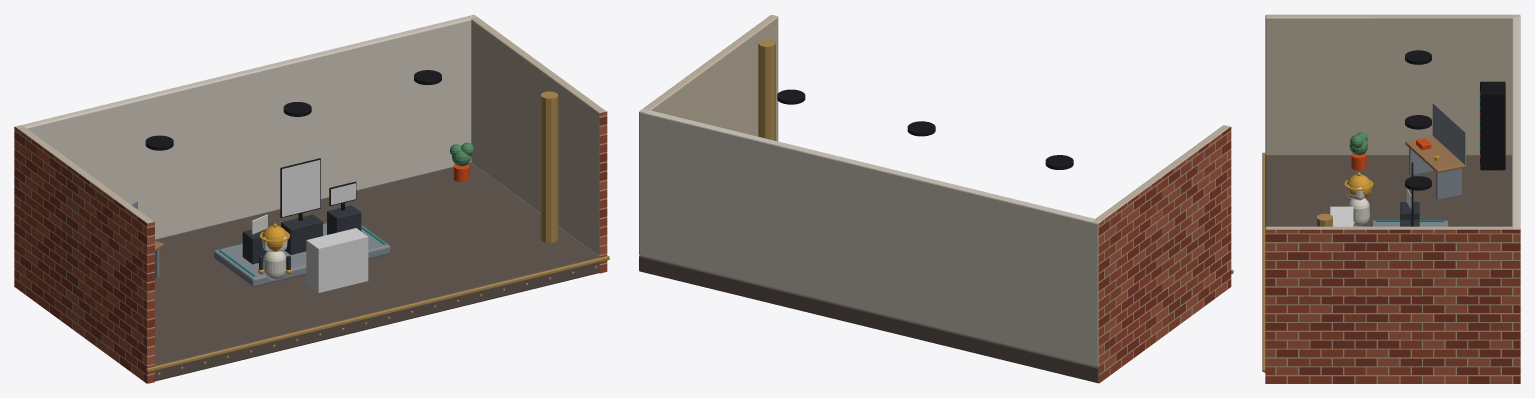
Rendered from workshop.glb.
The picture shows the model from 3 angles, left to right: view 1: azimuth 30°, elevation 25°; view 2: azimuth 150°, elevation 25°; view 3: azimuth 270°, elevation 25°; orthographic projection. The views are drawn at different scales.
Visible parts, largest first — view 1: static, hit__slider, screens, dyn__builder__head, dyn__builder__body; view 2: static; view 3: static, dyn__builder__head, hit__slider, dyn__builder__body, glow.
Part boxes in pixels (x1,y1,x2,y2): static: [14, 14, 609, 383]; hit__slider: [306, 228, 368, 292]; screens: [282, 160, 355, 216]; dyn__builder__head: [260, 223, 289, 251]; dyn__builder__body: [263, 251, 286, 280]; static: [639, 15, 1233, 383]; static: [1262, 14, 1520, 383]; dyn__builder__head: [1344, 172, 1373, 200]; hit__slider: [1330, 206, 1353, 226]; dyn__builder__body: [1348, 198, 1369, 226]; glow: [1376, 88, 1480, 221].
Size of the model in its own units: 12.06 by 4.03 by 6.07.
